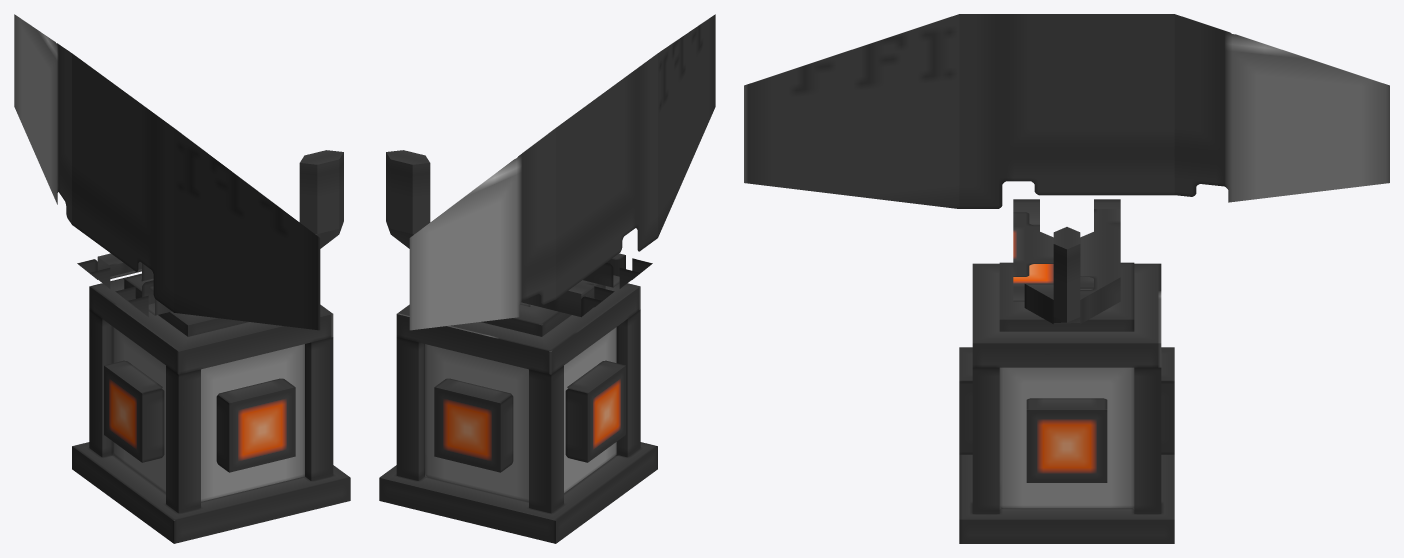
The model's file is radar.obj.
3 views of the same model, side by side, from view 1: azimuth 30°, elevation 25°; view 2: azimuth 150°, elevation 25°; view 3: azimuth 270°, elevation 25° (orthographic). The views are drawn at different scales.
Visible parts, largest first — view 1: Base, Dish; view 2: Base, Dish; view 3: Dish, Base.
Boxes of the visible parts, <box> form: Base: <box>72,273,350,543</box>; Dish: <box>14,14,343,330</box>; Base: <box>379,280,657,543</box>; Dish: <box>386,14,715,330</box>; Dish: <box>744,14,1389,324</box>; Base: <box>959,262,1174,543</box>.
Bounding box in the file's own units: 1.38 × 2.25 × 3.
